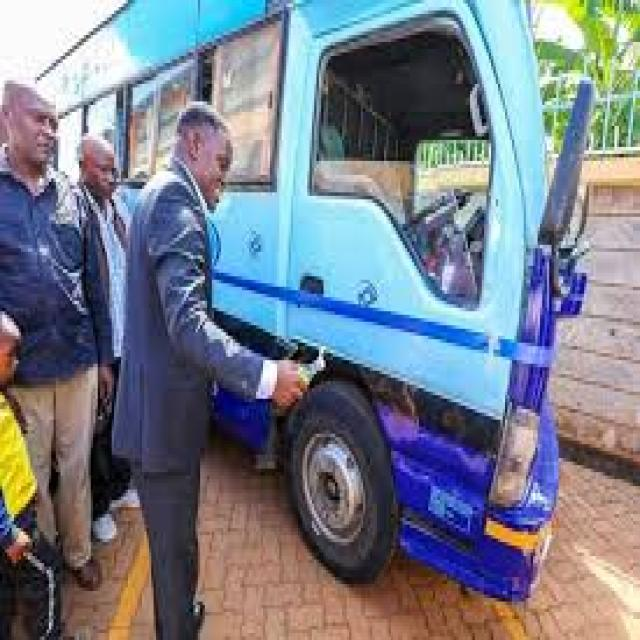bus: (29, 6, 626, 634)
